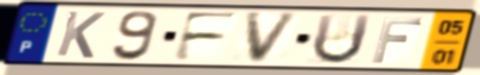9: (112, 9, 161, 62)
F: (170, 10, 243, 63), (369, 16, 426, 65)
K: (53, 9, 108, 60)
U: (309, 13, 375, 67)
V: (244, 11, 303, 65)
